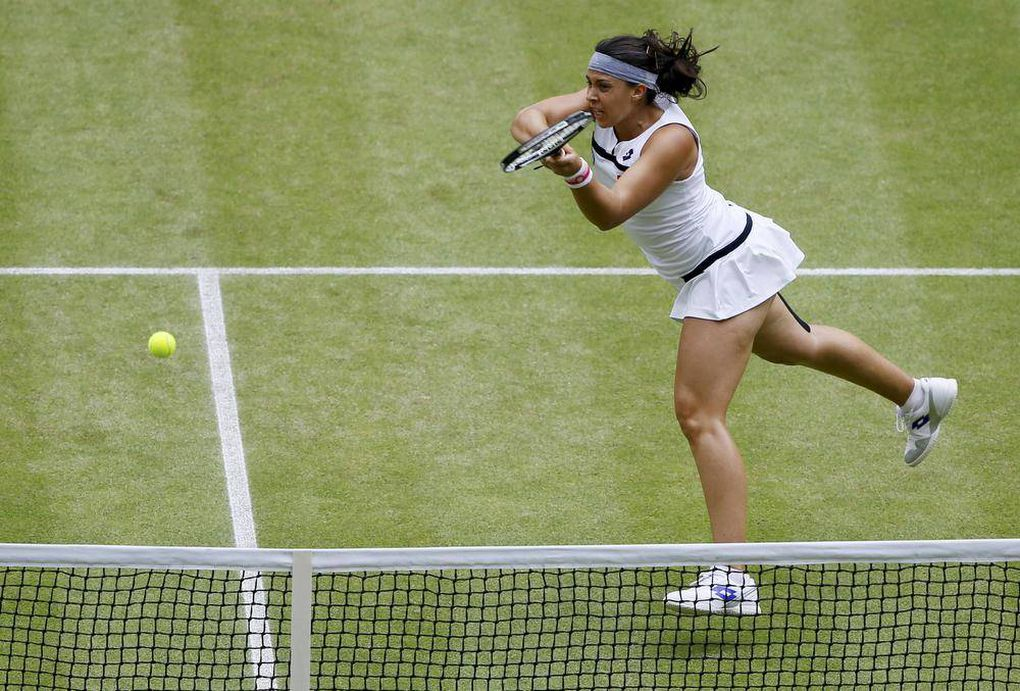tennis ball: (146, 330, 179, 362)
tennis player: (495, 22, 963, 546)
